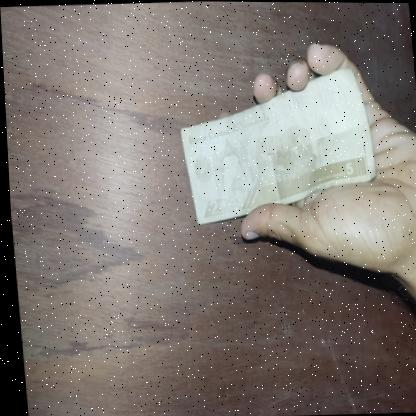five-back-vef: (175, 67, 378, 226)
